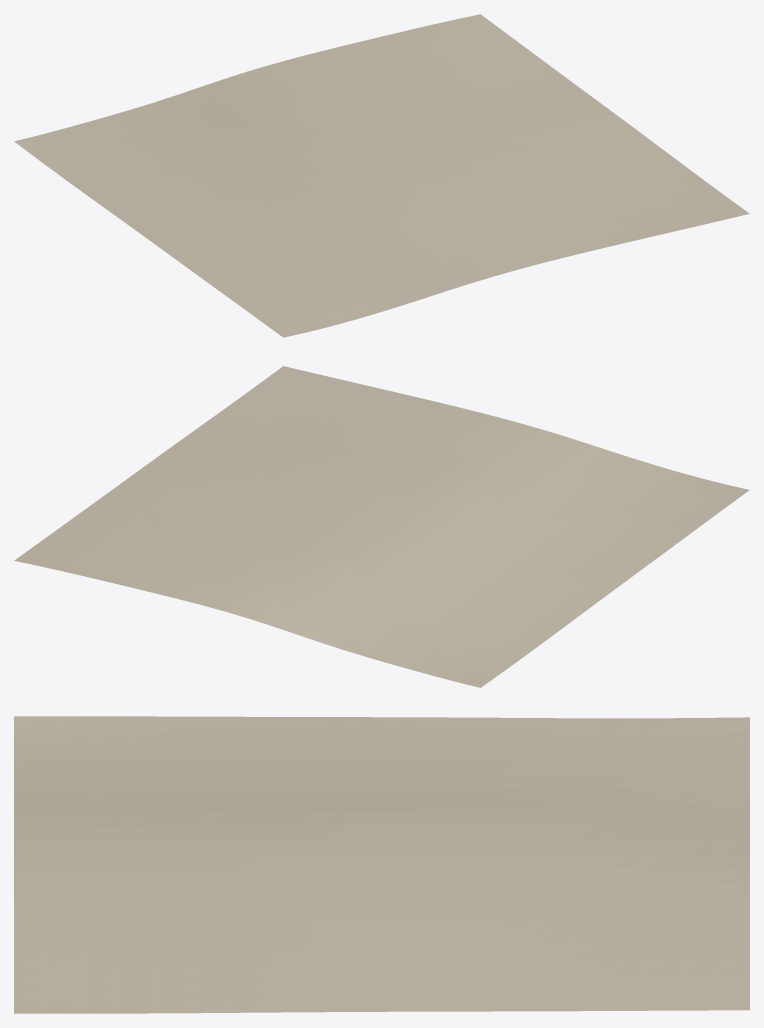
File: bolak_-13_11.glb
The picture shows the model from 3 angles, top to bottom: view 1: azimuth 30°, elevation 25°; view 2: azimuth 150°, elevation 25°; view 3: azimuth 270°, elevation 25°; orthographic projection. The views are drawn at different scales.
Parts seen in each view (by area): view 1: Yer_Tuproq-col; view 2: Yer_Tuproq-col; view 3: Yer_Tuproq-col.
Part boxes in pixels (x1=…): Yer_Tuproq-col: x1=14, y1=14, x2=749, y2=337; Yer_Tuproq-col: x1=14, y1=366, x2=749, y2=687; Yer_Tuproq-col: x1=14, y1=716, x2=749, y2=1013.
Bounding box in the file's own units: 400 × 13.08 × 400.
